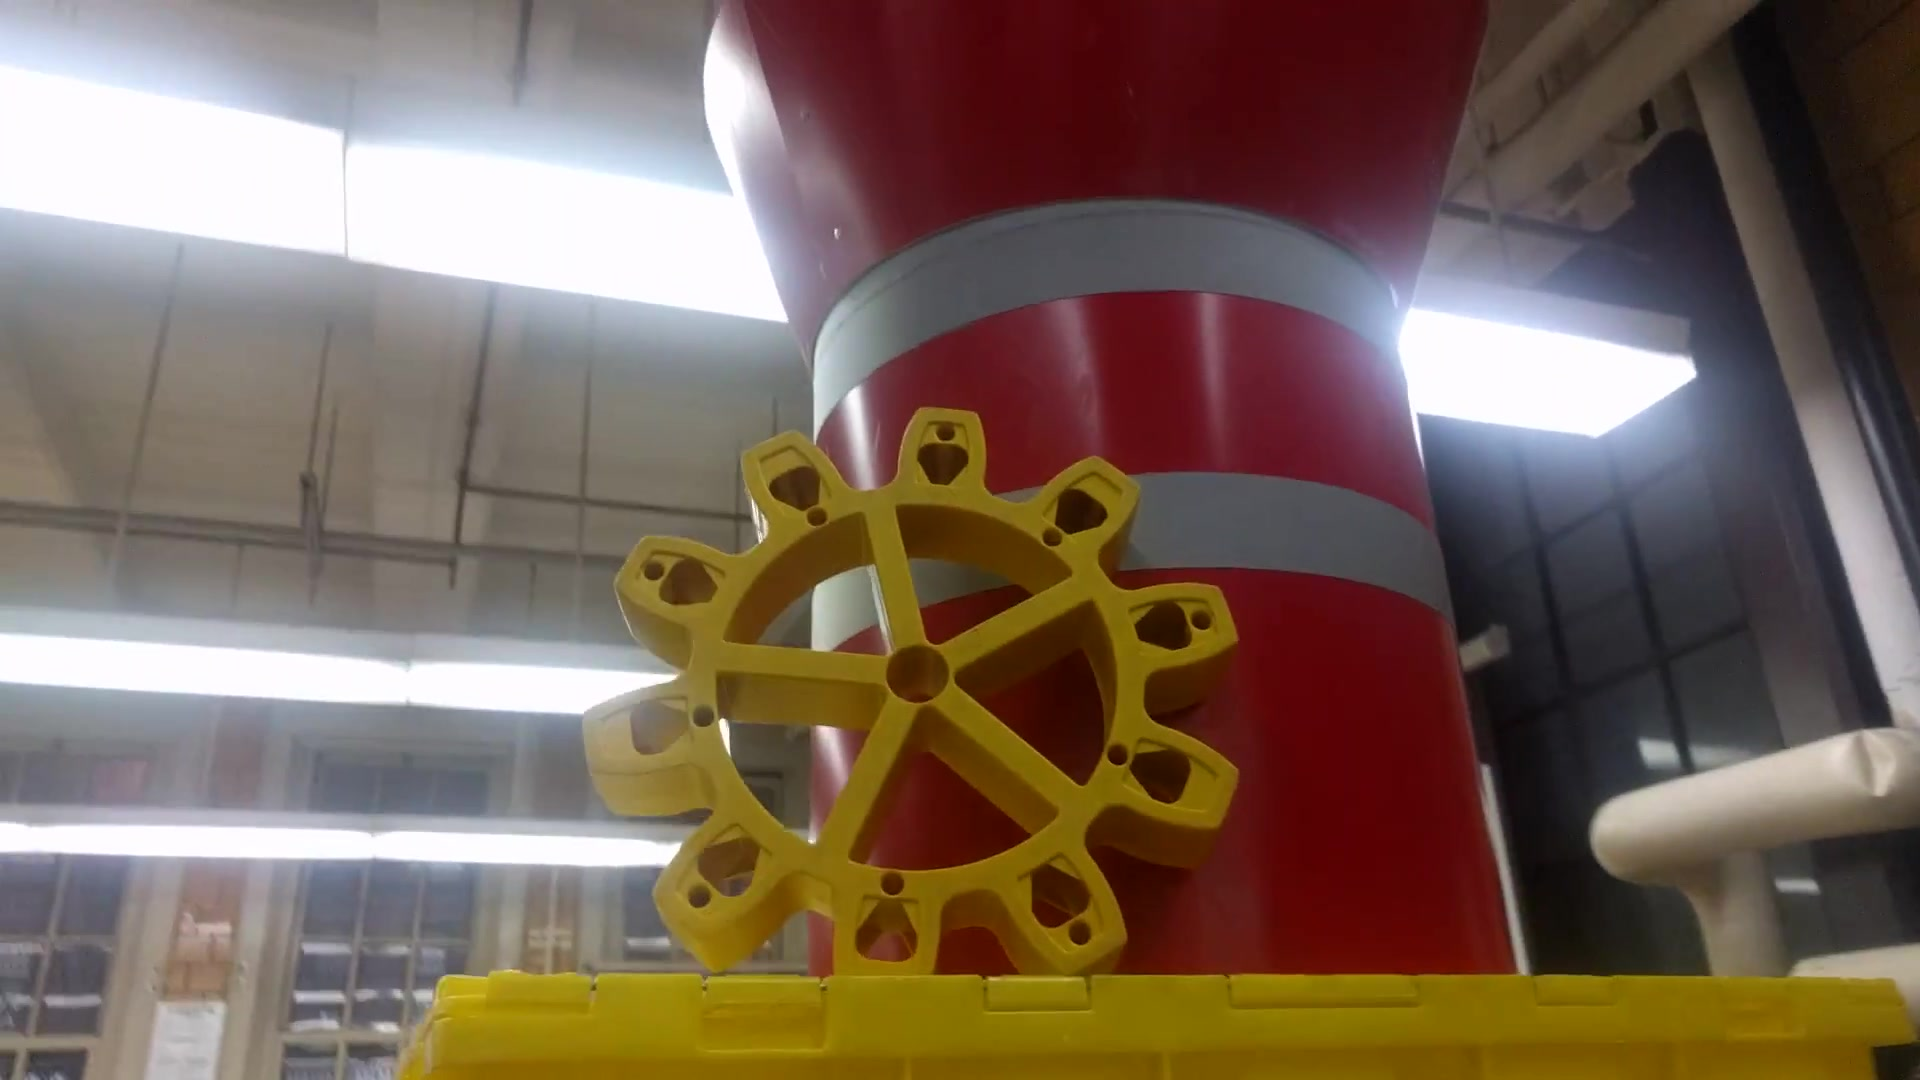gear: (574, 390, 1246, 982)
